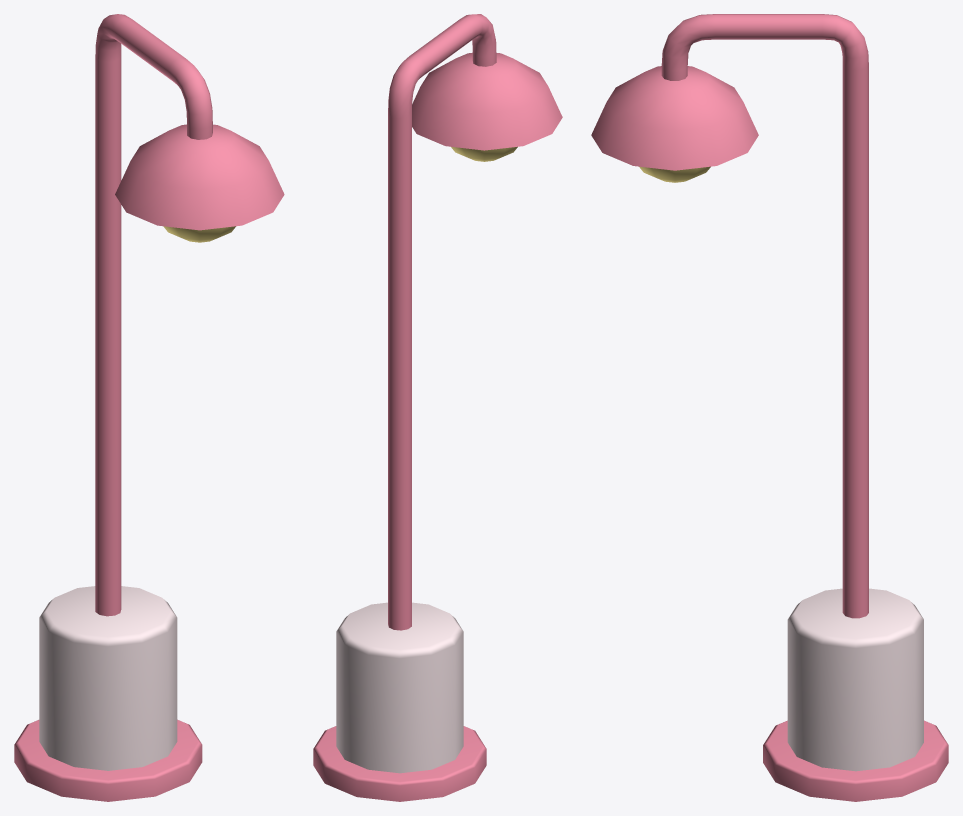
Rendered from Decor_Cotden.fbx.
3 views of the same model, side by side, from view 1: azimuth 30°, elevation 25°; view 2: azimuth 150°, elevation 25°; view 3: azimuth 270°, elevation 25° (orthographic). The views are drawn at different scales.
Visible parts, largest first — view 1: Decor_Cotden; view 2: Decor_Cotden; view 3: Decor_Cotden.
Part boxes in pixels (x1,y1,x2,y2): Decor_Cotden: (14, 14, 284, 801); Decor_Cotden: (313, 14, 562, 801); Decor_Cotden: (591, 14, 948, 801).
Bounding box in the file's own units: 120 × 533 × 231.
